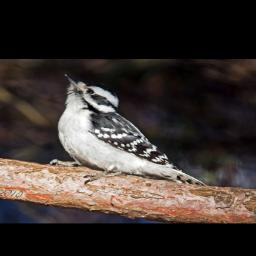Woodpecker: (45, 72, 206, 186)
